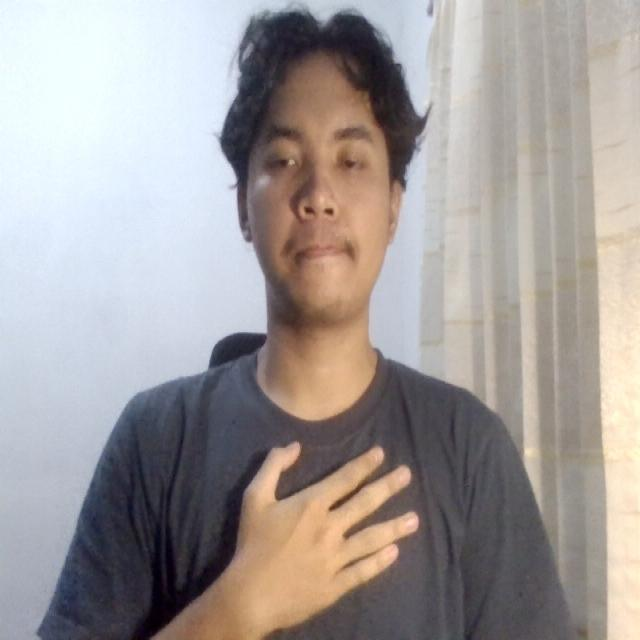Nama: (208, 427, 441, 624)
